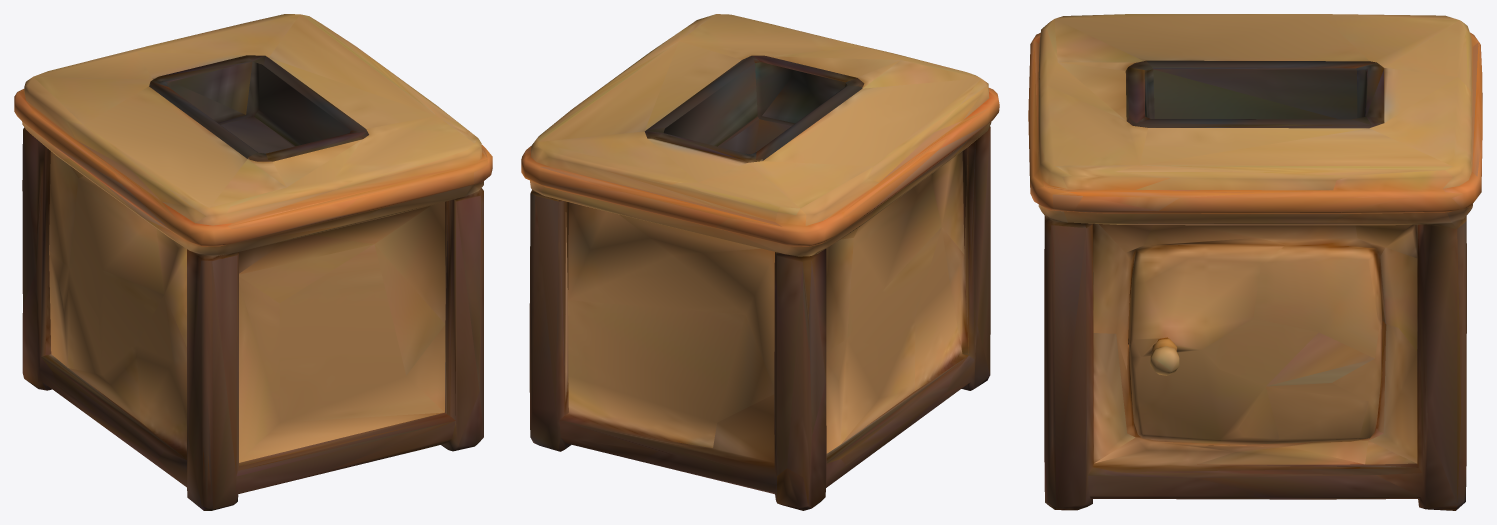
The model's file is KR_사물_s1_trash_bin.glb.
3 views of the same model, side by side, from view 1: azimuth 30°, elevation 25°; view 2: azimuth 150°, elevation 25°; view 3: azimuth 270°, elevation 25° (orthographic). The views are drawn at different scales.
Visible parts, largest first — view 1: tripo_node_dba559ac-9833-4cfd-9132-9e1b12683dd9; view 2: tripo_node_dba559ac-9833-4cfd-9132-9e1b12683dd9; view 3: tripo_node_dba559ac-9833-4cfd-9132-9e1b12683dd9.
Part boxes in pixels (bbox=[...]): tripo_node_dba559ac-9833-4cfd-9132-9e1b12683dd9: bbox=[14, 14, 492, 510]; tripo_node_dba559ac-9833-4cfd-9132-9e1b12683dd9: bbox=[521, 14, 999, 510]; tripo_node_dba559ac-9833-4cfd-9132-9e1b12683dd9: bbox=[1028, 14, 1482, 510].
Bounding box in the file's own units: 0.9741 × 0.8372 × 0.9992.
Materials: 1 (1 with a texture image).
